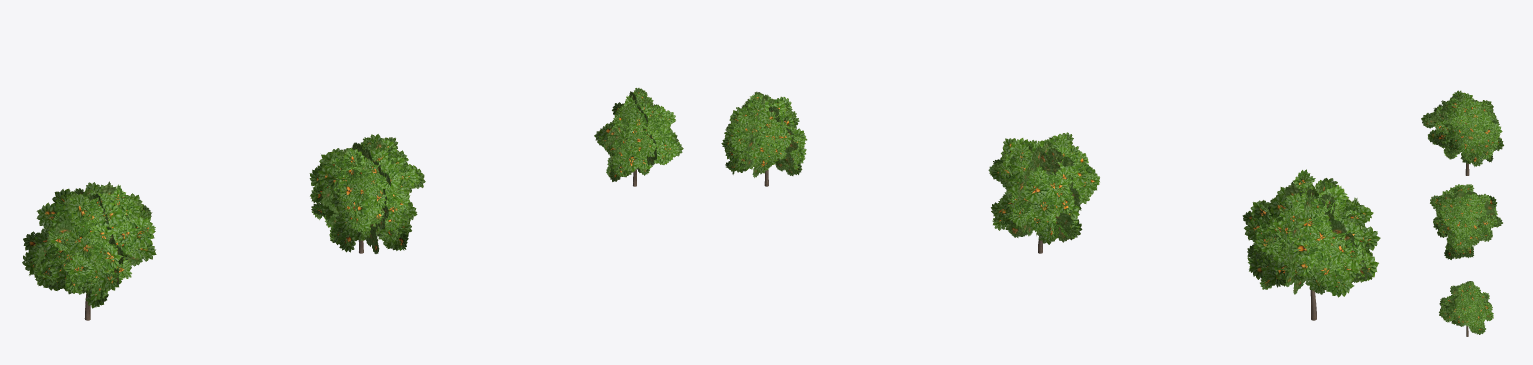
Rendered from tree_apricot.glb.
3 renders of one model, left to right at view 1: azimuth 30°, elevation 25°; view 2: azimuth 150°, elevation 25°; view 3: azimuth 270°, elevation 25°, orthographic. The views are drawn at different scales.
Parts seen in each view (by area): view 1: apricot_v0_LOD1_leaves, apricot_v1_LOD1_leaves, apricot_v2_LOD1_leaves, apricot_v0_LOD0_leaves, apricot_v1_LOD0_leaves, apricot_v2_LOD0_leaves, apricot_v1_LOD2_impostor, apricot_v0_LOD2_impostor, apricot_v2_LOD2_impostor; view 2: apricot_v0_LOD1_leaves, apricot_v1_LOD1_leaves, apricot_v2_LOD1_leaves, apricot_v0_LOD0_leaves, apricot_v1_LOD0_leaves, apricot_v1_LOD2_impostor, apricot_v2_LOD0_leaves, apricot_v0_LOD2_impostor, apricot_v2_LOD2_impostor; view 3: apricot_v0_LOD1_leaves, apricot_v1_LOD1_leaves, apricot_v2_LOD1_leaves, apricot_v0_LOD0_leaves, apricot_v1_LOD0_leaves, apricot_v2_LOD0_leaves, apricot_v0_LOD2_impostor, apricot_v1_LOD2_impostor, apricot_v2_LOD2_impostor.
Boxes of the visible parts, <box> form: apricot_v0_LOD1_leaves: <box>22,182,156,308</box>; apricot_v1_LOD1_leaves: <box>309,134,425,252</box>; apricot_v2_LOD1_leaves: <box>594,88,683,181</box>; apricot_v0_LOD0_leaves: <box>26,188,153,305</box>; apricot_v1_LOD0_leaves: <box>311,139,420,248</box>; apricot_v2_LOD0_leaves: <box>600,89,680,179</box>; apricot_v1_LOD2_impostor: <box>321,140,408,253</box>; apricot_v0_LOD2_impostor: <box>33,181,152,318</box>; apricot_v2_LOD2_impostor: <box>603,91,657,182</box>; apricot_v0_LOD1_leaves: <box>1242,169,1380,297</box>; apricot_v1_LOD1_leaves: <box>990,132,1099,244</box>; apricot_v2_LOD1_leaves: <box>721,92,807,174</box>; apricot_v0_LOD0_leaves: <box>1246,173,1373,293</box>; apricot_v1_LOD0_leaves: <box>994,135,1099,237</box>; apricot_v1_LOD2_impostor: <box>988,135,1079,248</box>; apricot_v2_LOD0_leaves: <box>726,93,803,172</box>; apricot_v0_LOD2_impostor: <box>1252,178,1368,316</box>; apricot_v2_LOD2_impostor: <box>741,91,798,183</box>; apricot_v0_LOD1_leaves: <box>1421,90,1503,166</box>; apricot_v1_LOD1_leaves: <box>1430,184,1502,259</box>; apricot_v2_LOD1_leaves: <box>1439,282,1493,334</box>; apricot_v0_LOD0_leaves: <box>1423,93,1501,162</box>; apricot_v1_LOD0_leaves: <box>1431,185,1494,257</box>; apricot_v2_LOD0_leaves: <box>1440,282,1492,333</box>; apricot_v0_LOD2_impostor: <box>1423,95,1500,170</box>; apricot_v1_LOD2_impostor: <box>1431,190,1500,245</box>; apricot_v2_LOD2_impostor: <box>1440,281,1492,326</box>.
Bounding box in the file's own units: 29.36 × 9.72 × 6.47.
Materials: 4 (4 with a texture image).
